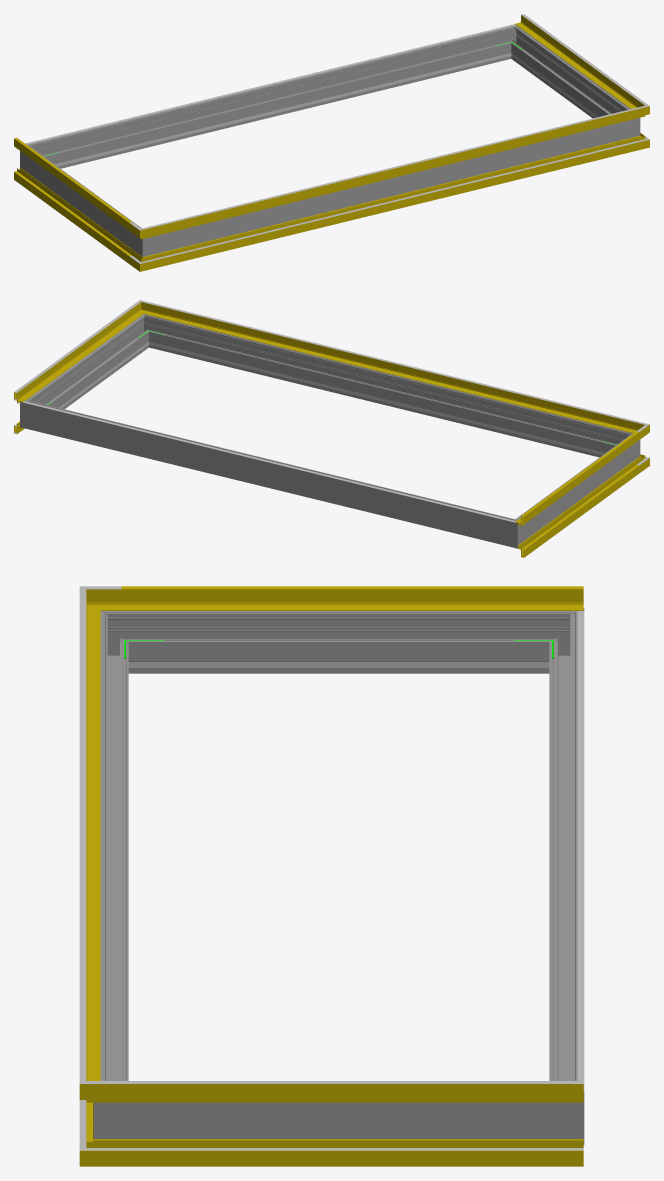
3 renders of one model, top to bottom at view 1: azimuth 30°, elevation 25°; view 2: azimuth 150°, elevation 25°; view 3: azimuth 270°, elevation 25°, orthographic. The views are drawn at different scales.
Visible parts, largest first — view 1: 3DGeom-278, 3DGeom-300, 3DGeom-90, 3DGeom-56, 3DGeom-299, 3DGeom-270, 3DGeom-85, 3DGeom-58, 3DGeom-246, 3DGeom-222, 3DGeom-66, 3DGeom-100 (+7 smaller); view 2: 3DGeom-300, 3DGeom-278, 3DGeom-56, 3DGeom-299, 3DGeom-270, 3DGeom-85, 3DGeom-58, 3DGeom-241, 3DGeom-222, 3DGeom-66, 3DGeom-50, 3DGeom-280 (+5 smaller); view 3: 3DGeom-270, 3DGeom-299, 3DGeom-278, 3DGeom-300, 3DGeom-97, 3DGeom-50, 3DGeom-58, 3DGeom-56, 3DGeom-222, 3DGeom-66, 3DGeom-234, 3DGeom-71 (+9 smaller).
Boxes of the visible parts, left/top/right/bottom form: 3DGeom-278: left=40, top=29, right=508, bottom=168; 3DGeom-300: left=160, top=122, right=622, bottom=252; 3DGeom-90: left=154, top=138, right=631, bottom=267; 3DGeom-56: left=156, top=110, right=631, bottom=235; 3DGeom-299: left=513, top=32, right=626, bottom=118; 3DGeom-270: left=30, top=151, right=137, bottom=248; 3DGeom-85: left=14, top=167, right=135, bottom=263; 3DGeom-58: left=515, top=15, right=636, bottom=108; 3DGeom-246: left=61, top=57, right=493, bottom=165; 3DGeom-222: left=25, top=24, right=515, bottom=144; 3DGeom-66: left=157, top=109, right=630, bottom=225; 3DGeom-100: left=157, top=143, right=630, bottom=259; 3DGeom-300: left=152, top=318, right=620, bottom=457; 3DGeom-278: left=38, top=403, right=502, bottom=544; 3DGeom-56: left=153, top=305, right=629, bottom=431; 3DGeom-299: left=33, top=320, right=147, bottom=409; 3DGeom-270: left=522, top=440, right=629, bottom=537; 3DGeom-85: left=518, top=461, right=639, bottom=557; 3DGeom-58: left=14, top=308, right=138, bottom=403; 3DGeom-241: left=166, top=346, right=598, bottom=454; 3DGeom-222: left=23, top=401, right=515, bottom=522; 3DGeom-66: left=157, top=304, right=630, bottom=420; 3DGeom-50: left=515, top=432, right=639, bottom=526; 3DGeom-280: left=499, top=514, right=528, bottom=548; 3DGeom-270: left=135, top=611, right=542, bottom=673; 3DGeom-299: left=135, top=1102, right=542, bottom=1138; 3DGeom-278: left=549, top=626, right=577, bottom=1080; 3DGeom-300: left=100, top=626, right=128, bottom=1080; 3DGeom-97: left=121, top=1139, right=583, bottom=1166; 3DGeom-50: left=121, top=589, right=583, bottom=610; 3DGeom-58: left=121, top=1084, right=583, bottom=1102; 3DGeom-56: left=86, top=604, right=100, bottom=1080; 3DGeom-222: left=577, top=611, right=584, bottom=1091; 3DGeom-66: left=79, top=604, right=86, bottom=1066; 3DGeom-234: left=169, top=662, right=508, bottom=667; 3DGeom-71: left=121, top=586, right=583, bottom=589.
Bounding box in the file's own units: 4.27 × 0.3303 × 1.83.
